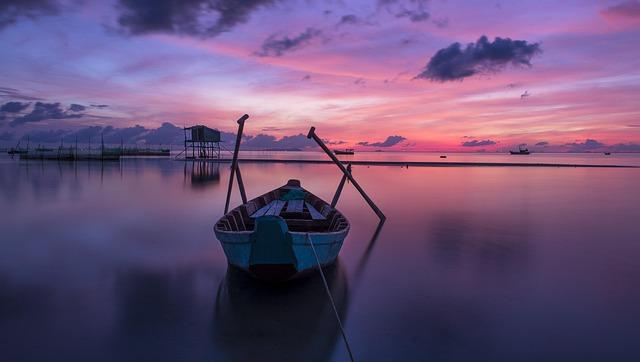Non_Gorille: (19, 0, 549, 362)
